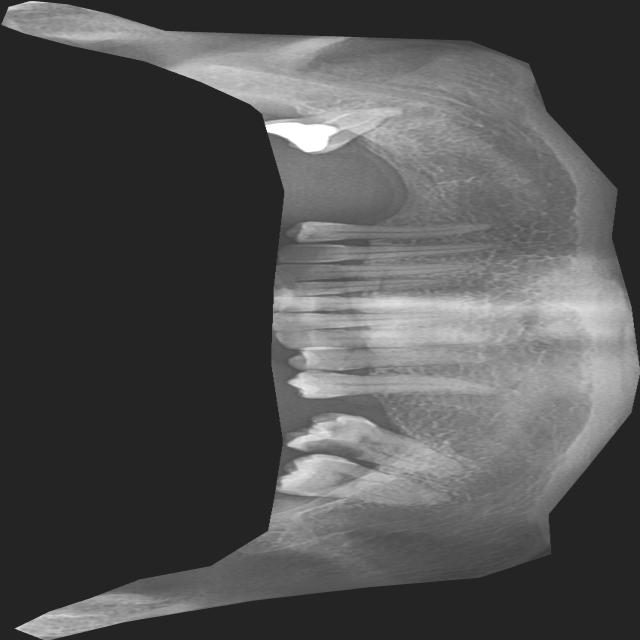mandibula: (1, 0, 640, 640)
